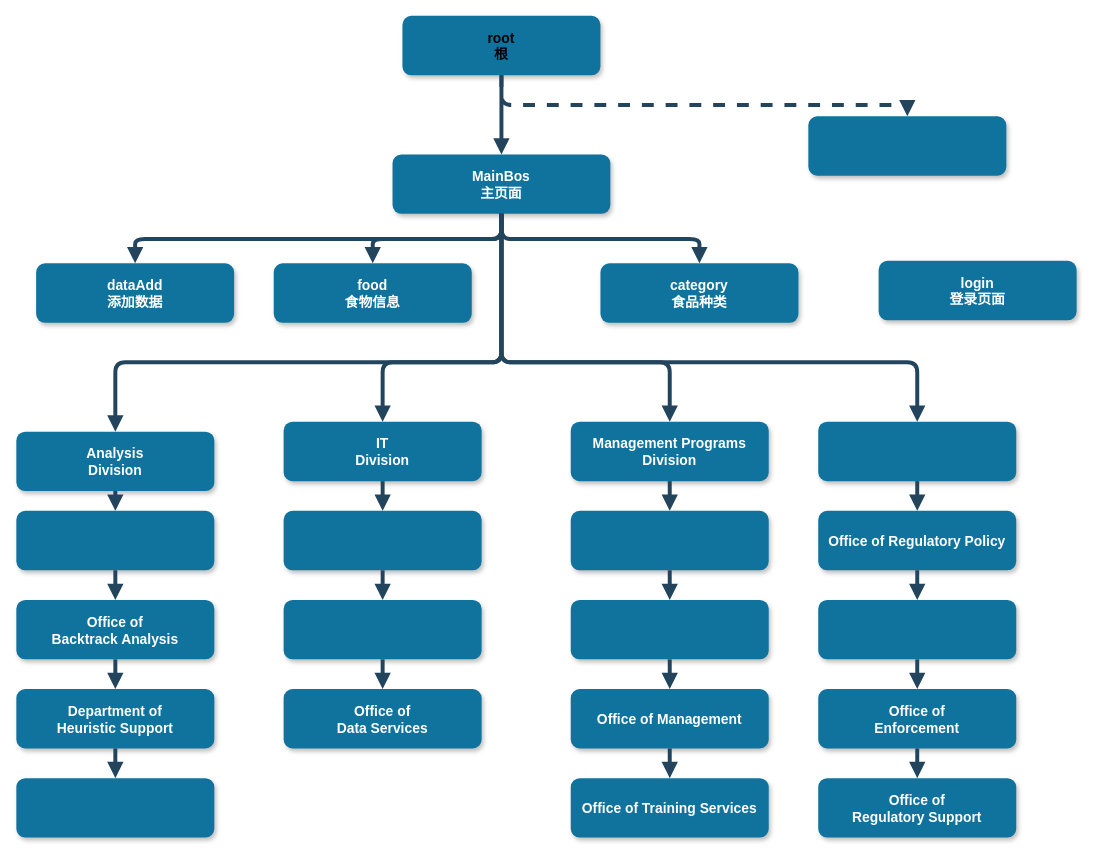
Some shapes in this 1093 by 853 pixel diagram are drawn without their labels. Each missing label, with the centre of its shape:
Database Administration: point 383,541
login登录页面: point 908,147
Office Compliance: point 918,630
Office of Financial Management: point 670,541
Office of Global Support: point 116,541
Office of Human Resources: point 670,630
Office of Intelligence Support: point 116,809
Office of Technology Research: point 383,630
Regulatory and Enforcement Division: point 918,452
